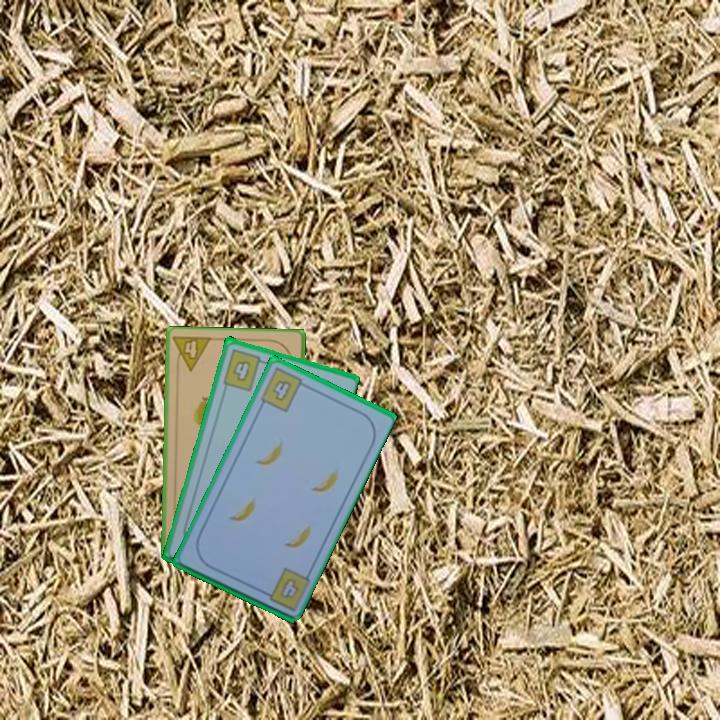4b: (257, 364, 311, 415), (219, 345, 269, 393), (276, 574, 302, 601)
4p: (170, 333, 214, 375)
